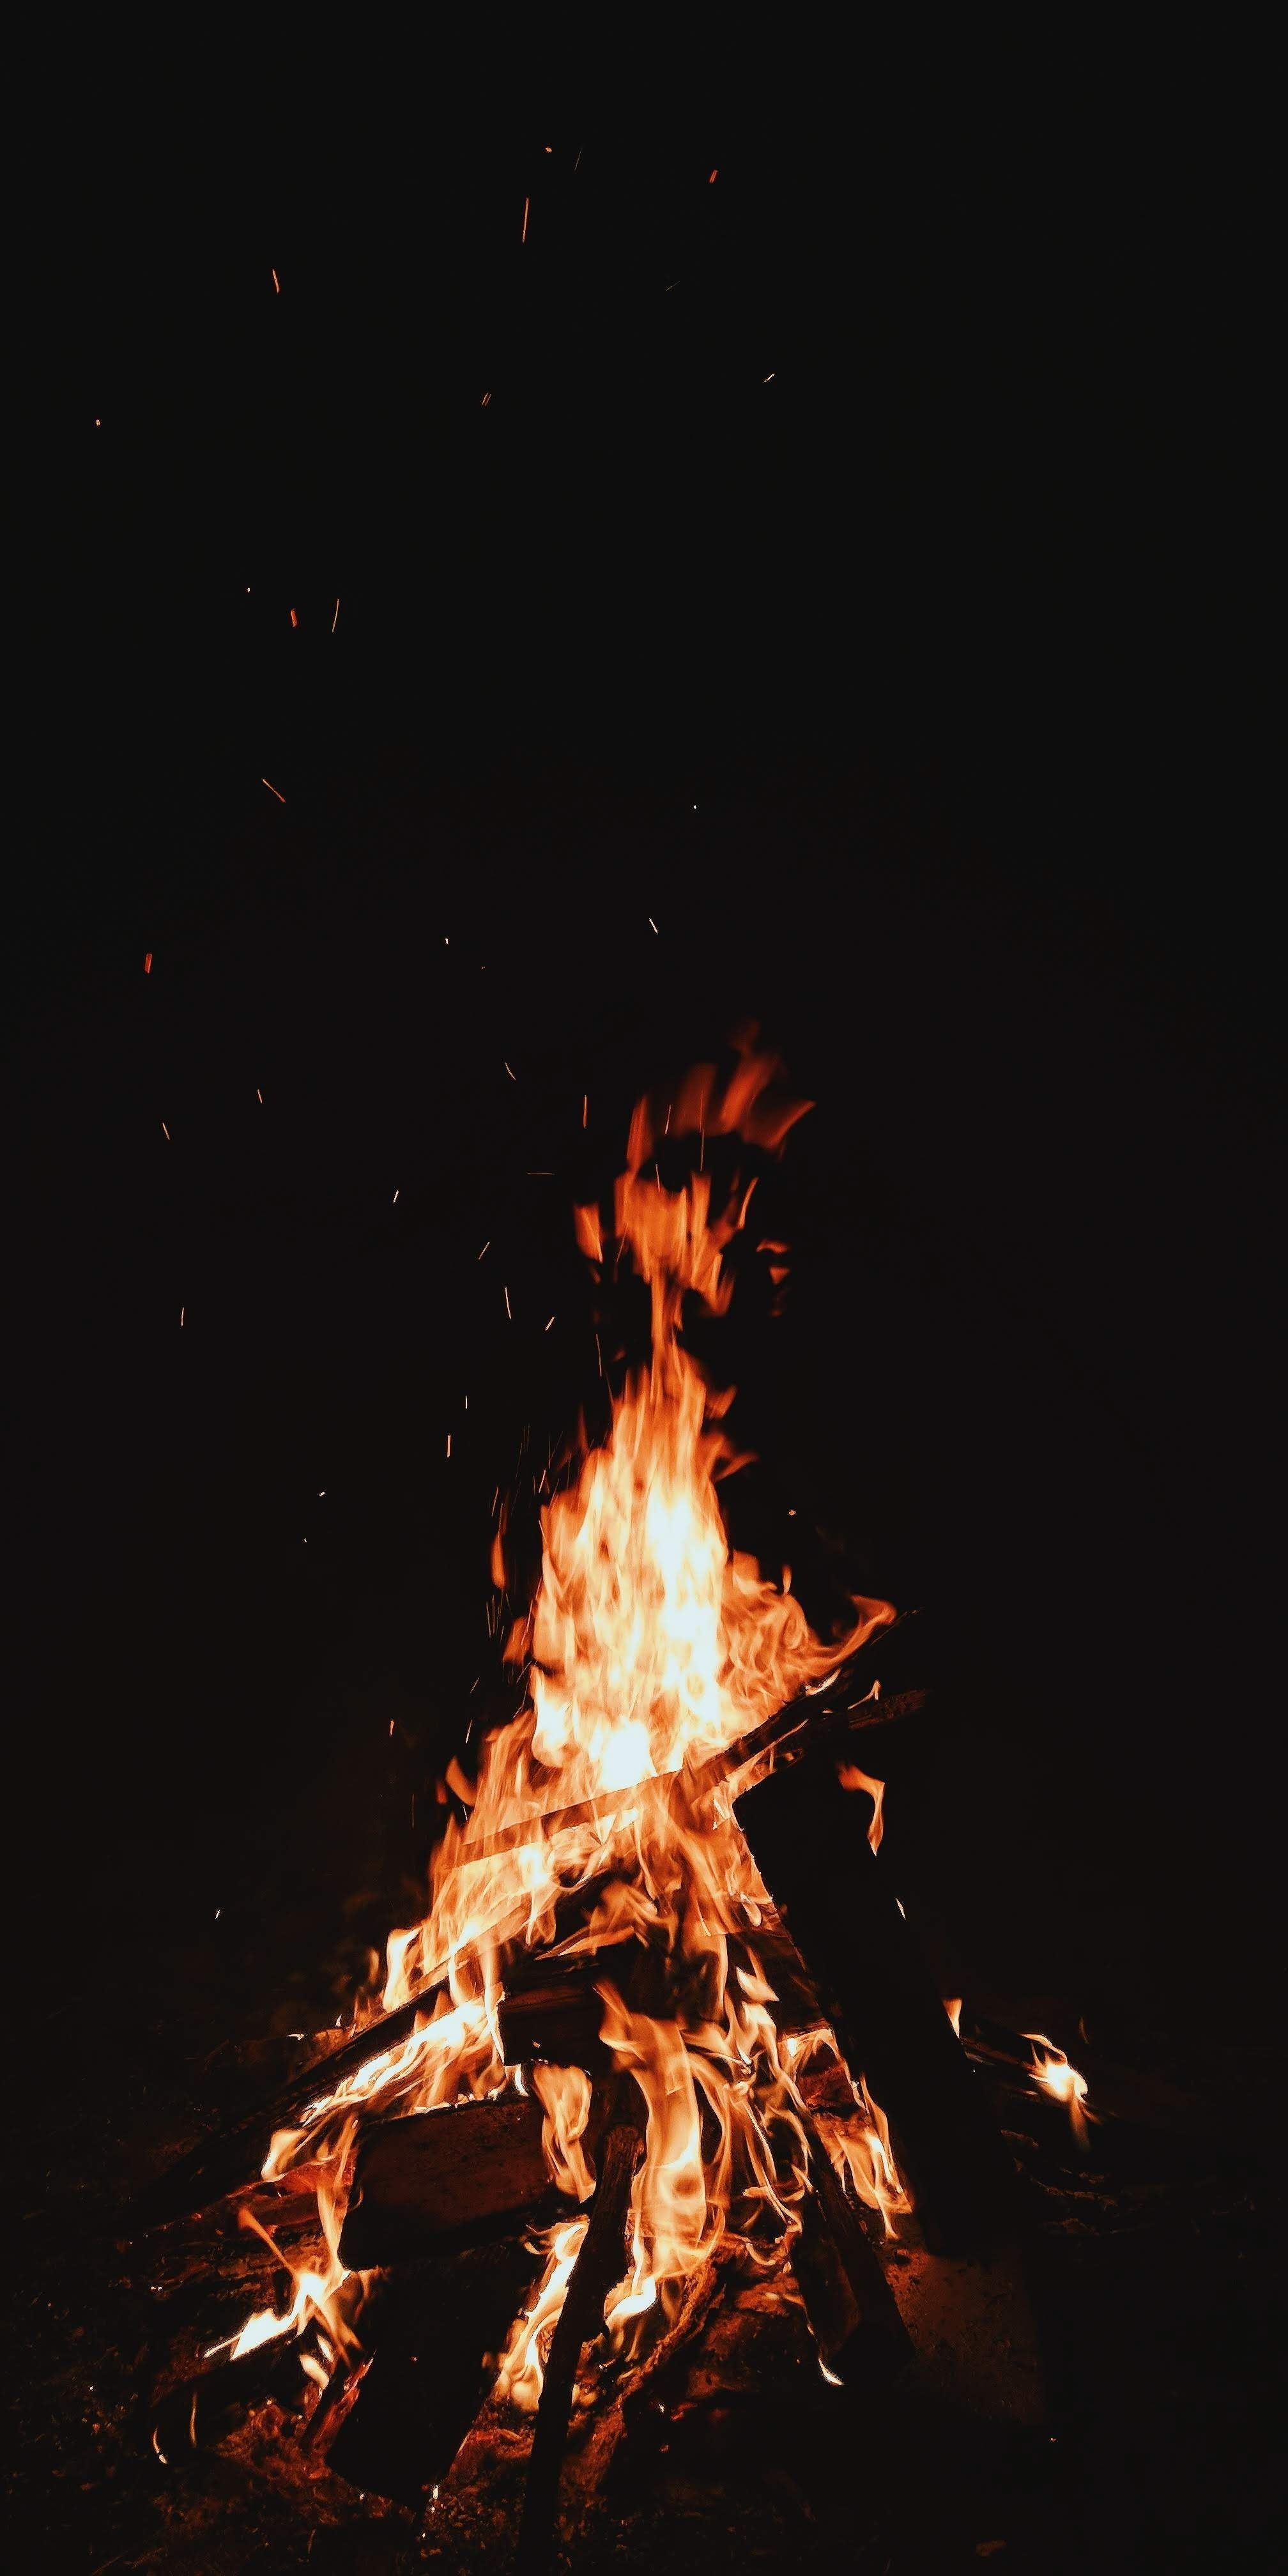fire: (218, 969, 1001, 2469)
